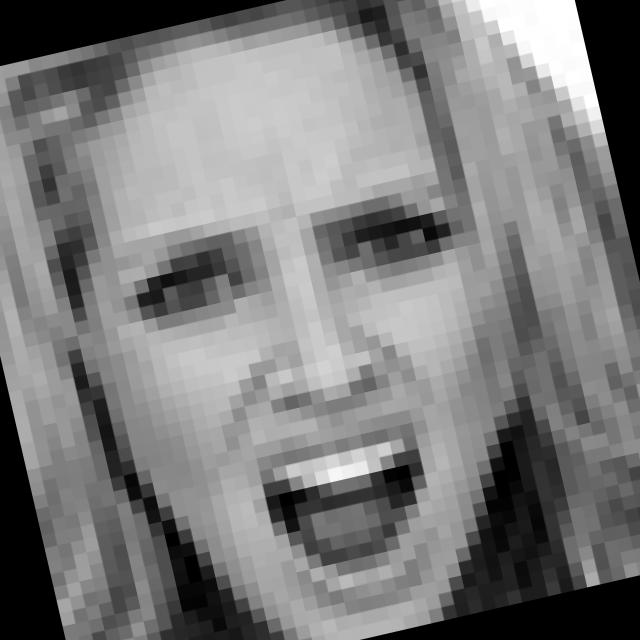angry: (108, 157, 541, 640)
